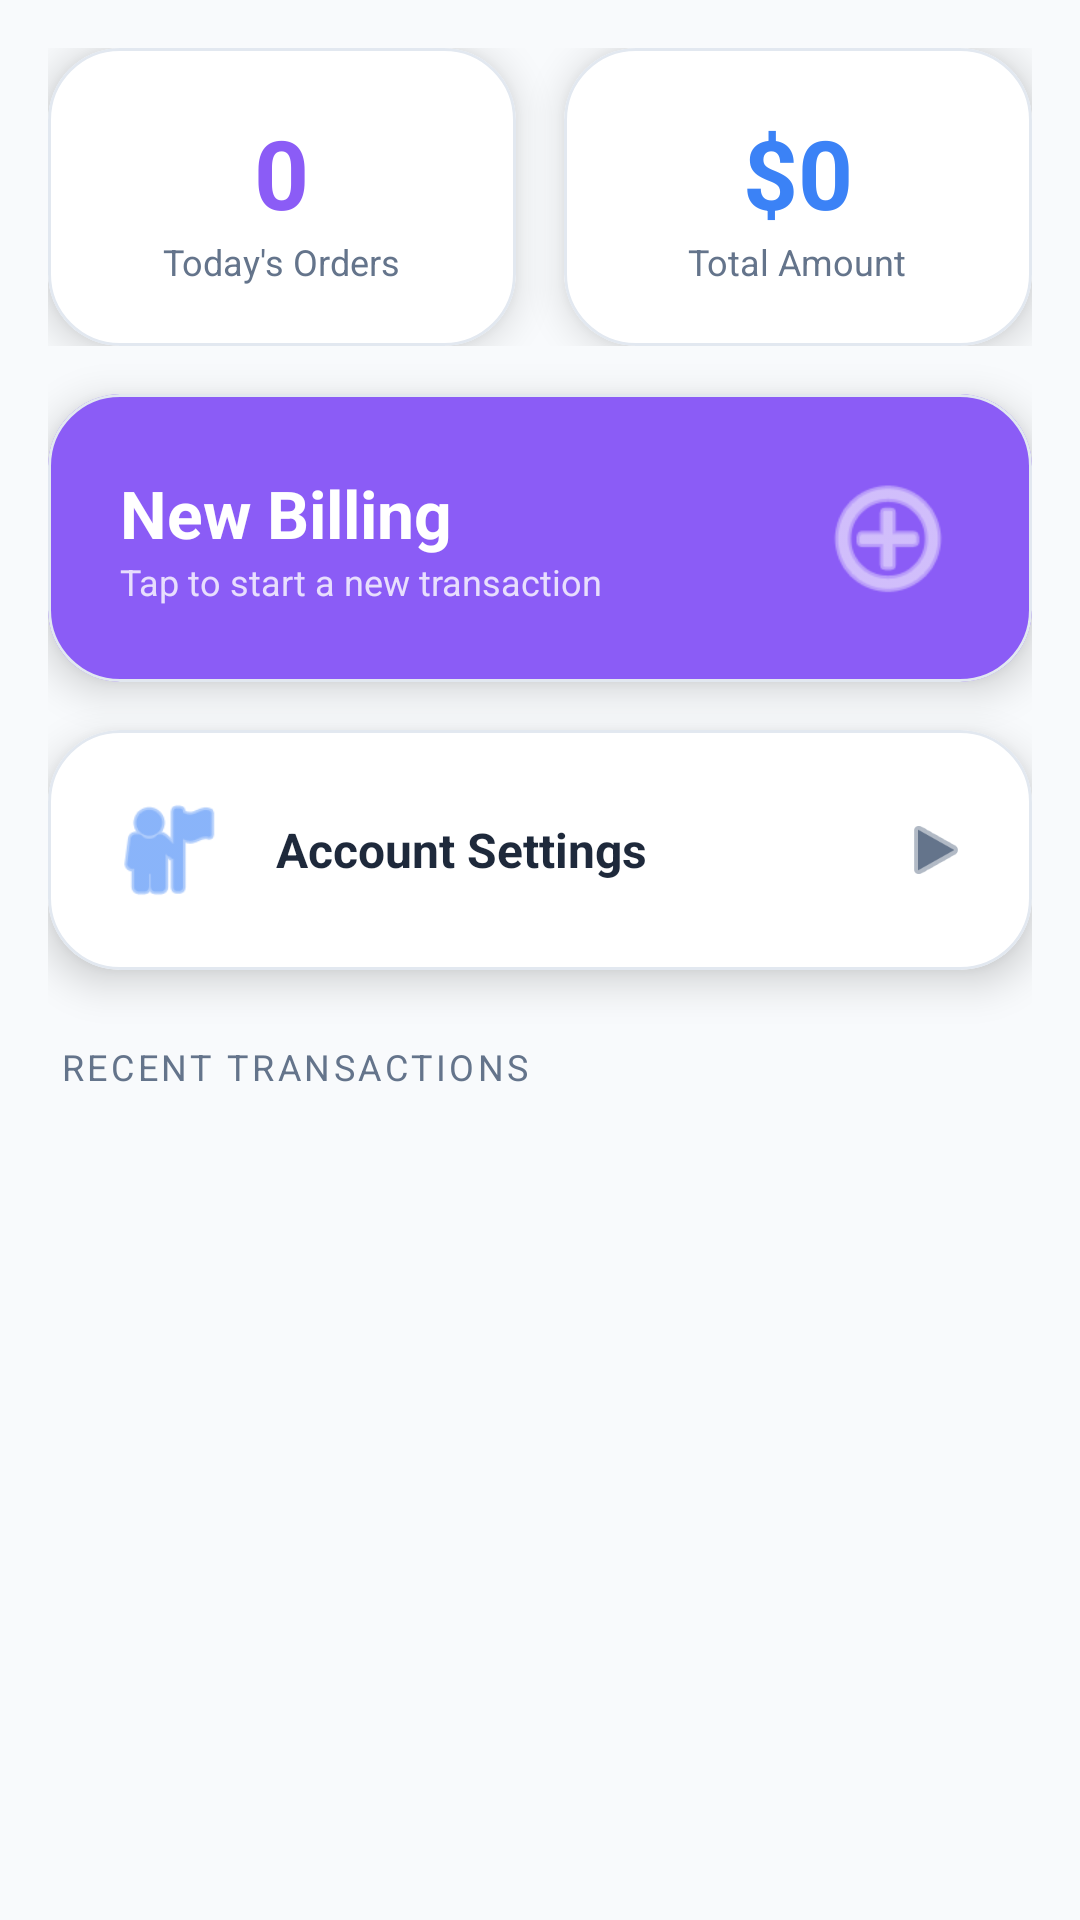

Locate icon controls on the screen. Image size 1080w x 1920h, boxes as bbox(x1, y1, x2, y2).
add: bbox(835, 485, 941, 592)
myplaces: bbox(124, 805, 214, 895)
play: bbox(914, 826, 958, 874)
